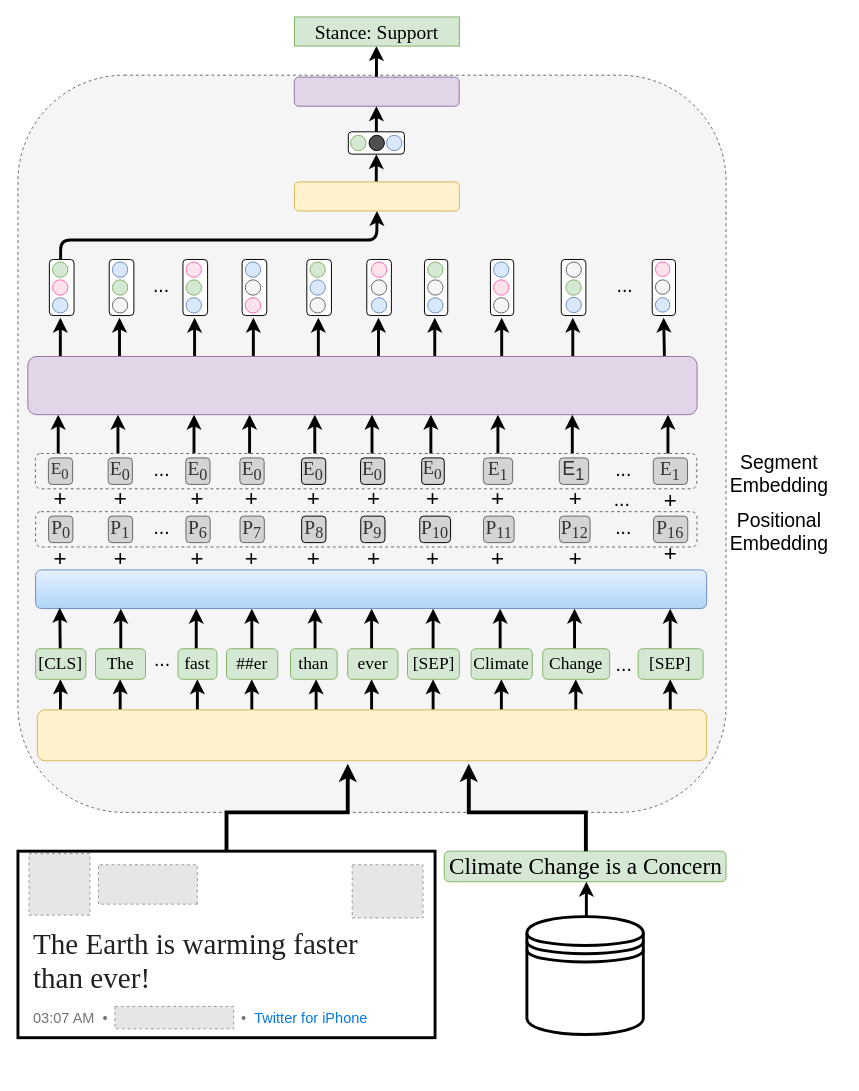
Some shapes in this 859 by 1091 pixel diagram are drawn without their labels. Grey dashed boxes stand in for pictures. Here are the shapes that lost their labels. From the top down, the centre of each, then its label:
the point at 376,91: MLP (Classifier)
the point at 376,196: Dropout
the point at 362,385: (Transformer Encoder Layers) X 12
the point at 371,589: Embedding Table Lookup
the point at 371,735: Bert Tokenizer (Word Piece)
the point at 584,975: Targets
